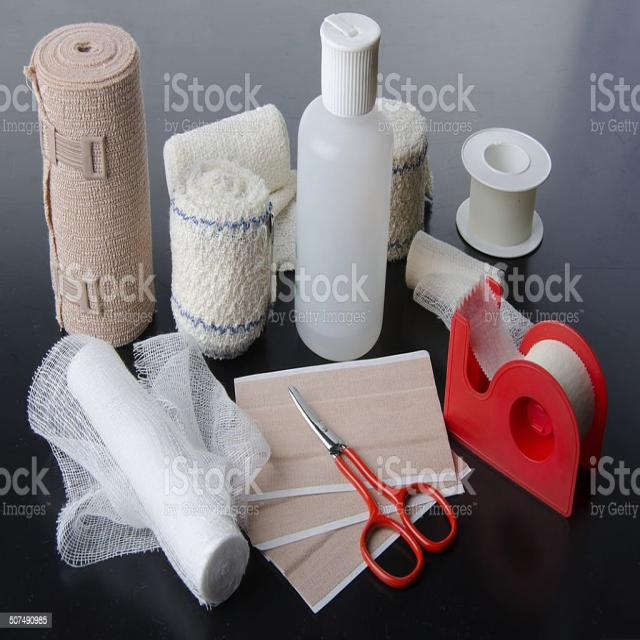B3: (28, 338, 264, 612), (14, 14, 164, 364), (286, 2, 405, 363), (274, 378, 462, 600), (154, 84, 314, 204)
